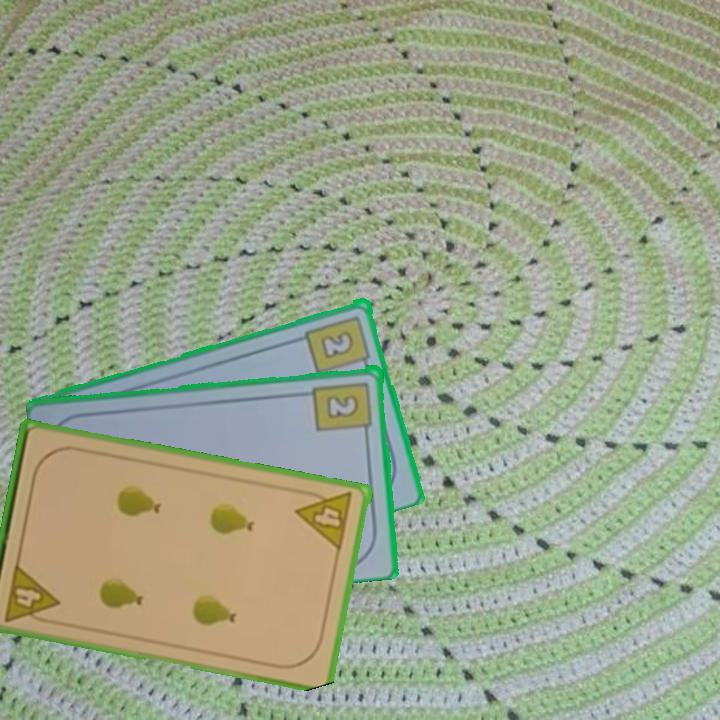2b: (302, 311, 374, 376), (310, 378, 376, 439)
4p: (293, 485, 356, 554), (1, 559, 62, 627)
